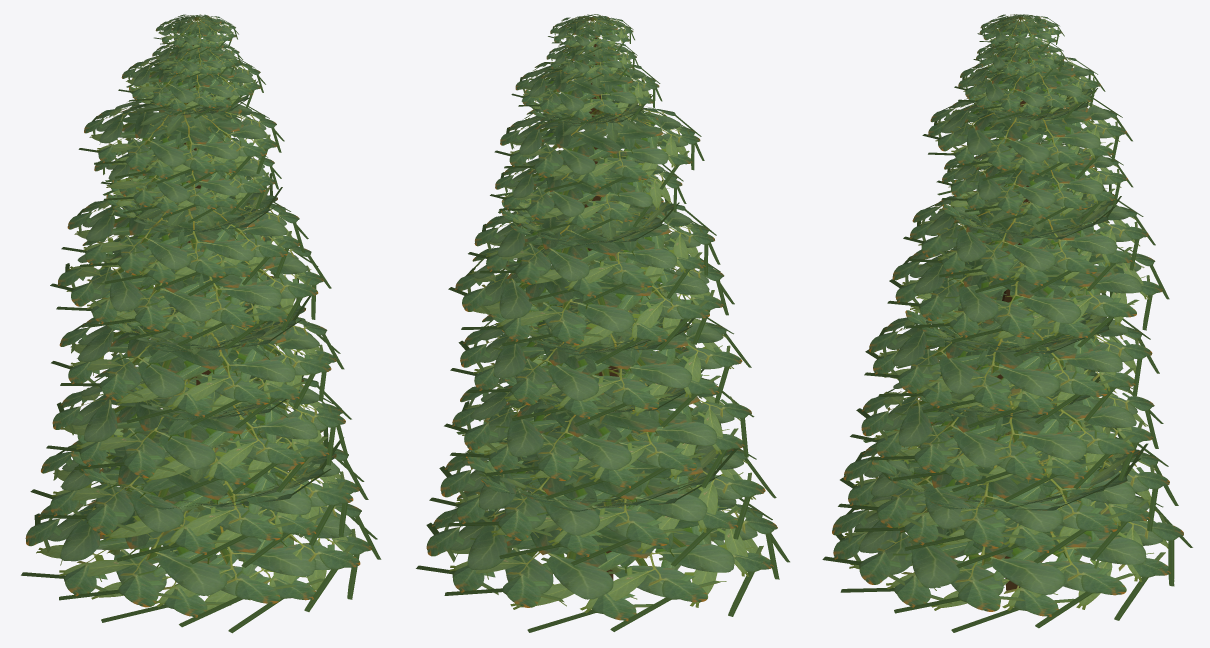
Rendered from Tree.glb.
3 renders of one model, left to right at view 1: azimuth 30°, elevation 25°; view 2: azimuth 150°, elevation 25°; view 3: azimuth 270°, elevation 25°, orthographic. The views are drawn at different scales.
Parts seen in each view (by area): view 1: Plane.007, Plane.021, Plane.027, Plane.008, Plane.041, Plane.049, Plane.035, Plane.055, Plane.077, Plane.078, Plane.065, Plane.064 (+64 smaller); view 2: Plane.012, Plane.013, Plane.026, Plane.039, Plane.025, Plane.040, Plane.054, Plane.053, Plane.069, Plane.006, Plane.083, Plane.082 (+58 smaller); view 3: Plane.010, Plane.023, Plane.037, Plane.011, Plane.051, Plane.036, Plane.024, Plane.009, Plane.022, Plane.067, Plane.052, Plane.038 (+69 smaller).
Part boxes in pixels (<box>): Plane.007: <box>59,495,261,607</box>; Plane.021: <box>140,436,311,564</box>; Plane.027: <box>41,429,227,534</box>; Plane.008: <box>130,501,316,627</box>; Plane.041: <box>74,378,248,477</box>; Plane.049: <box>146,320,295,425</box>; Plane.035: <box>160,373,317,494</box>; Plane.055: <box>60,308,227,400</box>; Plane.077: <box>80,197,221,275</box>; Plane.078: <box>130,198,255,290</box>; Plane.065: <box>139,248,281,345</box>; Plane.064: <box>87,246,242,331</box>; Plane.012: <box>444,492,654,607</box>; Plane.013: <box>544,502,734,631</box>; Plane.026: <box>532,433,707,565</box>; Plane.039: <box>484,372,660,480</box>; Plane.025: <box>448,431,645,540</box>; Plane.040: <box>555,372,716,497</box>; Plane.054: <box>539,312,691,426</box>; Plane.053: <box>467,308,639,405</box>; Plane.069: <box>496,248,652,346</box>; Plane.006: <box>510,524,699,632</box>; Plane.083: <box>550,208,676,304</box>; Plane.082: <box>479,205,624,284</box>; Plane.010: <box>886,506,1088,613</box>; Plane.023: <box>897,444,1080,550</box>; Plane.037: <box>930,384,1091,491</box>; Plane.011: <box>955,501,1146,628</box>; Plane.051: <box>916,318,1077,413</box>; Plane.036: <box>868,375,1048,472</box>; Plane.024: <box>966,431,1135,563</box>; Plane.009: <box>822,509,1012,588</box>; Plane.022: <box>838,440,1029,528</box>; Plane.067: <box>942,244,1094,342</box>; Plane.052: <box>970,308,1122,423</box>; Plane.038: <box>979,368,1136,489</box>.
Size of the model in its own units: 3.11 by 5.25 by 3.11.
2 materials, 1 textured.
